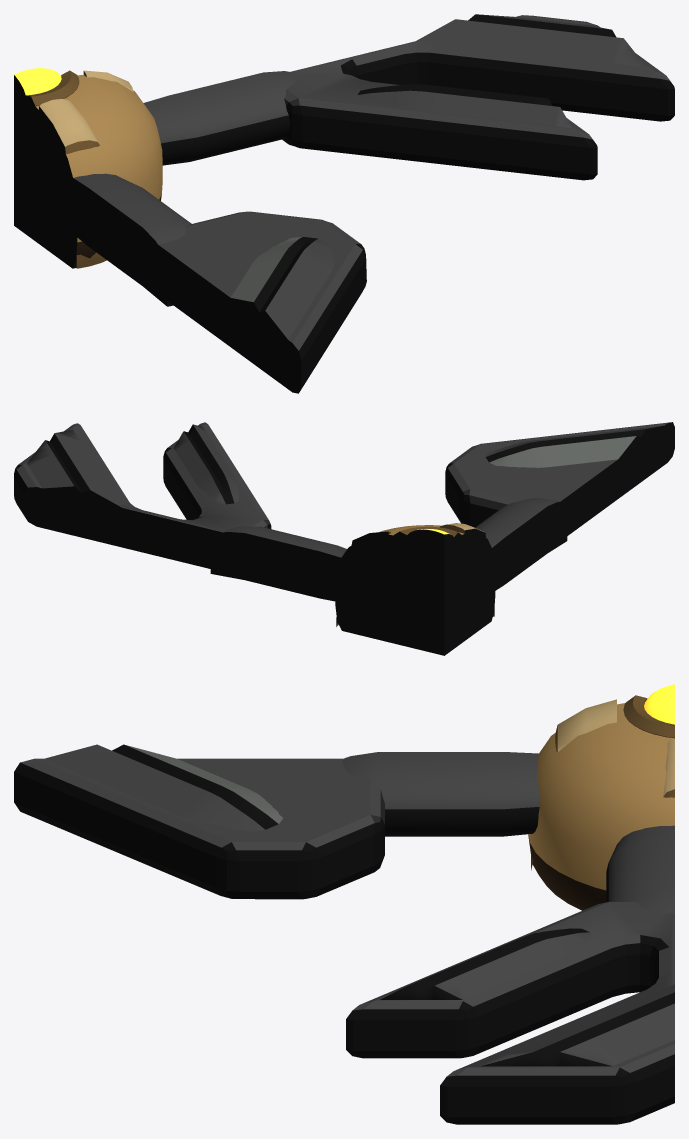
Rendered from spin_claw_125.glb.
3 views of the same model, one above another, from view 1: azimuth 30°, elevation 25°; view 2: azimuth 150°, elevation 25°; view 3: azimuth 270°, elevation 25° (orthographic). The views are drawn at different scales.
Parts seen in each view (by area): view 1: spin_claw_125_arm1_plate, spin_claw_125_arm2_plate, spin_claw_125_hub_dome, spin_claw_125_arm1_rod, spin_claw_125_arm2_rod, spin_claw_125_arm2_ridge0, spin_claw_125_arm1_ridge0, spin_claw_125_arm1_ridge1, spin_claw_125_hub_rib2, spin_claw_125_hub_lens, spin_claw_125_hub_bezel; view 2: spin_claw_125_hub_dome, spin_claw_125_arm1_plate, spin_claw_125_arm2_plate, spin_claw_125_arm1_rod, spin_claw_125_arm2_rod, spin_claw_125_arm2_ridge0, spin_claw_125_arm1_ridge0, spin_claw_125_arm1_ridge1, spin_claw_125_hub_lens, spin_claw_125_hub_bezel, spin_claw_125_hub_rib2, spin_claw_125_hub_rib1; view 3: spin_claw_125_arm1_plate, spin_claw_125_arm2_plate, spin_claw_125_hub_dome, spin_claw_125_arm2_rod, spin_claw_125_arm2_ridge0, spin_claw_125_arm1_ridge0, spin_claw_125_arm1_ridge1, spin_claw_125_arm1_rod, spin_claw_125_hub_rib2, spin_claw_125_hub_bezel, spin_claw_125_hub_lens.
Boxes of the visible parts, x1=… form: spin_claw_125_arm1_plate: x1=282, y1=15, x2=674, y2=180; spin_claw_125_arm2_plate: x1=140, y1=211, x2=366, y2=393; spin_claw_125_hub_dome: x1=14, y1=75, x2=162, y2=268; spin_claw_125_arm1_rod: x1=143, y1=71, x2=295, y2=165; spin_claw_125_arm2_rod: x1=52, y1=173, x2=191, y2=306; spin_claw_125_arm2_ridge0: x1=225, y1=237, x2=334, y2=352; spin_claw_125_arm1_ridge0: x1=416, y1=14, x2=646, y2=67; spin_claw_125_arm1_ridge1: x1=357, y1=84, x2=571, y2=128; spin_claw_125_hub_rib2: x1=39, y1=99, x2=106, y2=268; spin_claw_125_hub_lens: x1=14, y1=68, x2=61, y2=110; spin_claw_125_hub_bezel: x1=14, y1=70, x2=79, y2=112; spin_claw_125_hub_dome: x1=335, y1=525, x2=495, y2=655; spin_claw_125_arm1_plate: x1=14, y1=422, x2=271, y2=576; spin_claw_125_arm2_plate: x1=445, y1=422, x2=674, y2=548; spin_claw_125_arm1_rod: x1=210, y1=526, x2=369, y2=607; spin_claw_125_arm2_rod: x1=475, y1=498, x2=567, y2=602; spin_claw_125_arm2_ridge0: x1=485, y1=424, x2=668, y2=467; spin_claw_125_arm1_ridge0: x1=27, y1=429, x2=129, y2=515; spin_claw_125_arm1_ridge1: x1=173, y1=424, x2=239, y2=504; spin_claw_125_hub_lens: x1=406, y1=528, x2=454, y2=556; spin_claw_125_hub_bezel: x1=394, y1=526, x2=461, y2=554; spin_claw_125_hub_rib2: x1=440, y1=523, x2=494, y2=616; spin_claw_125_hub_rib1: x1=336, y1=531, x2=390, y2=626; spin_claw_125_arm1_plate: x1=346, y1=901, x2=674, y2=1124; spin_claw_125_arm2_plate: x1=14, y1=758, x2=384, y2=899; spin_claw_125_hub_dome: x1=528, y1=703, x2=674, y2=910; spin_claw_125_arm2_rod: x1=342, y1=752, x2=539, y2=836; spin_claw_125_arm2_ridge0: x1=45, y1=744, x2=282, y2=831; spin_claw_125_arm1_ridge0: x1=481, y1=984, x2=674, y2=1066; spin_claw_125_arm1_ridge1: x1=380, y1=928, x2=591, y2=999; spin_claw_125_arm1_rod: x1=606, y1=825, x2=674, y2=913; spin_claw_125_hub_rib2: x1=531, y1=699, x2=616, y2=870; spin_claw_125_hub_bezel: x1=623, y1=695, x2=674, y2=738; spin_claw_125_hub_lens: x1=644, y1=684, x2=674, y2=724.
Bounding box in the file's own units: 21.38 × 5.56 × 18.97.
